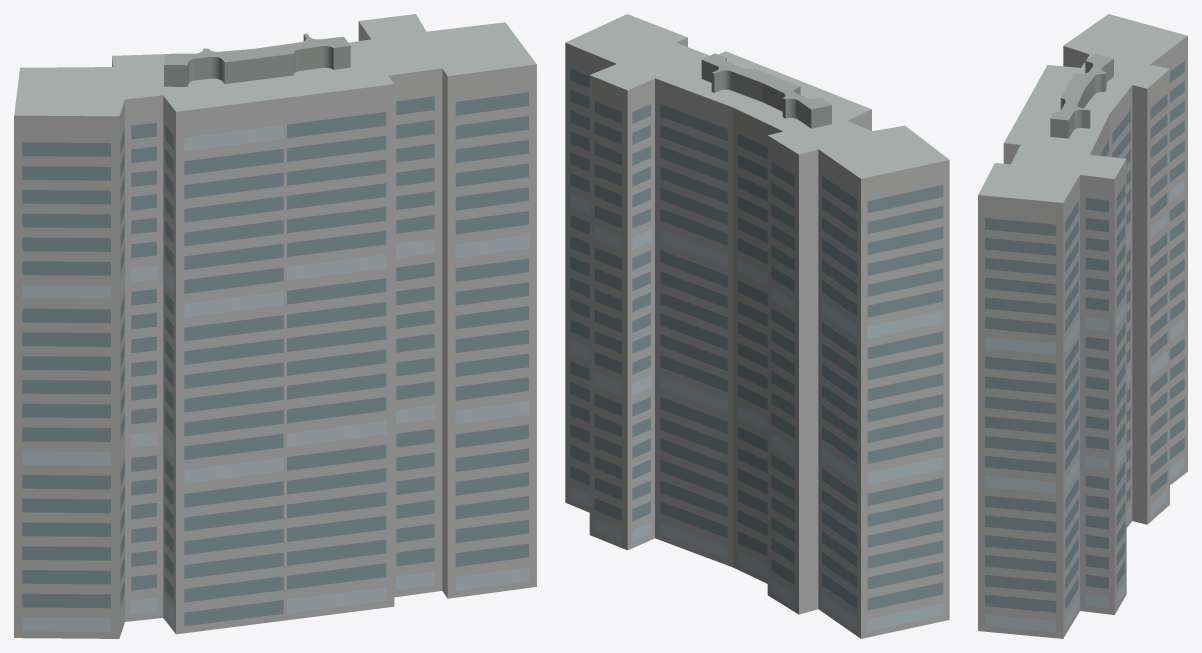
Rendered from fallback-lake-palace-125.glb.
3 views of the same model, side by side, from view 1: azimuth 30°, elevation 25°; view 2: azimuth 150°, elevation 25°; view 3: azimuth 270°, elevation 25° (orthographic). The views are drawn at different scales.
Parts seen in each view (by area): view 1: fallback-lake-palace-125; view 2: fallback-lake-palace-125; view 3: fallback-lake-palace-125.
Part boxes in pixels (x1,y1,x2,y2): fallback-lake-palace-125: (14, 14, 536, 638); fallback-lake-palace-125: (565, 14, 949, 638); fallback-lake-palace-125: (978, 14, 1187, 638).
Bounding box in the file's own units: 53.53 × 60 × 25.1.
